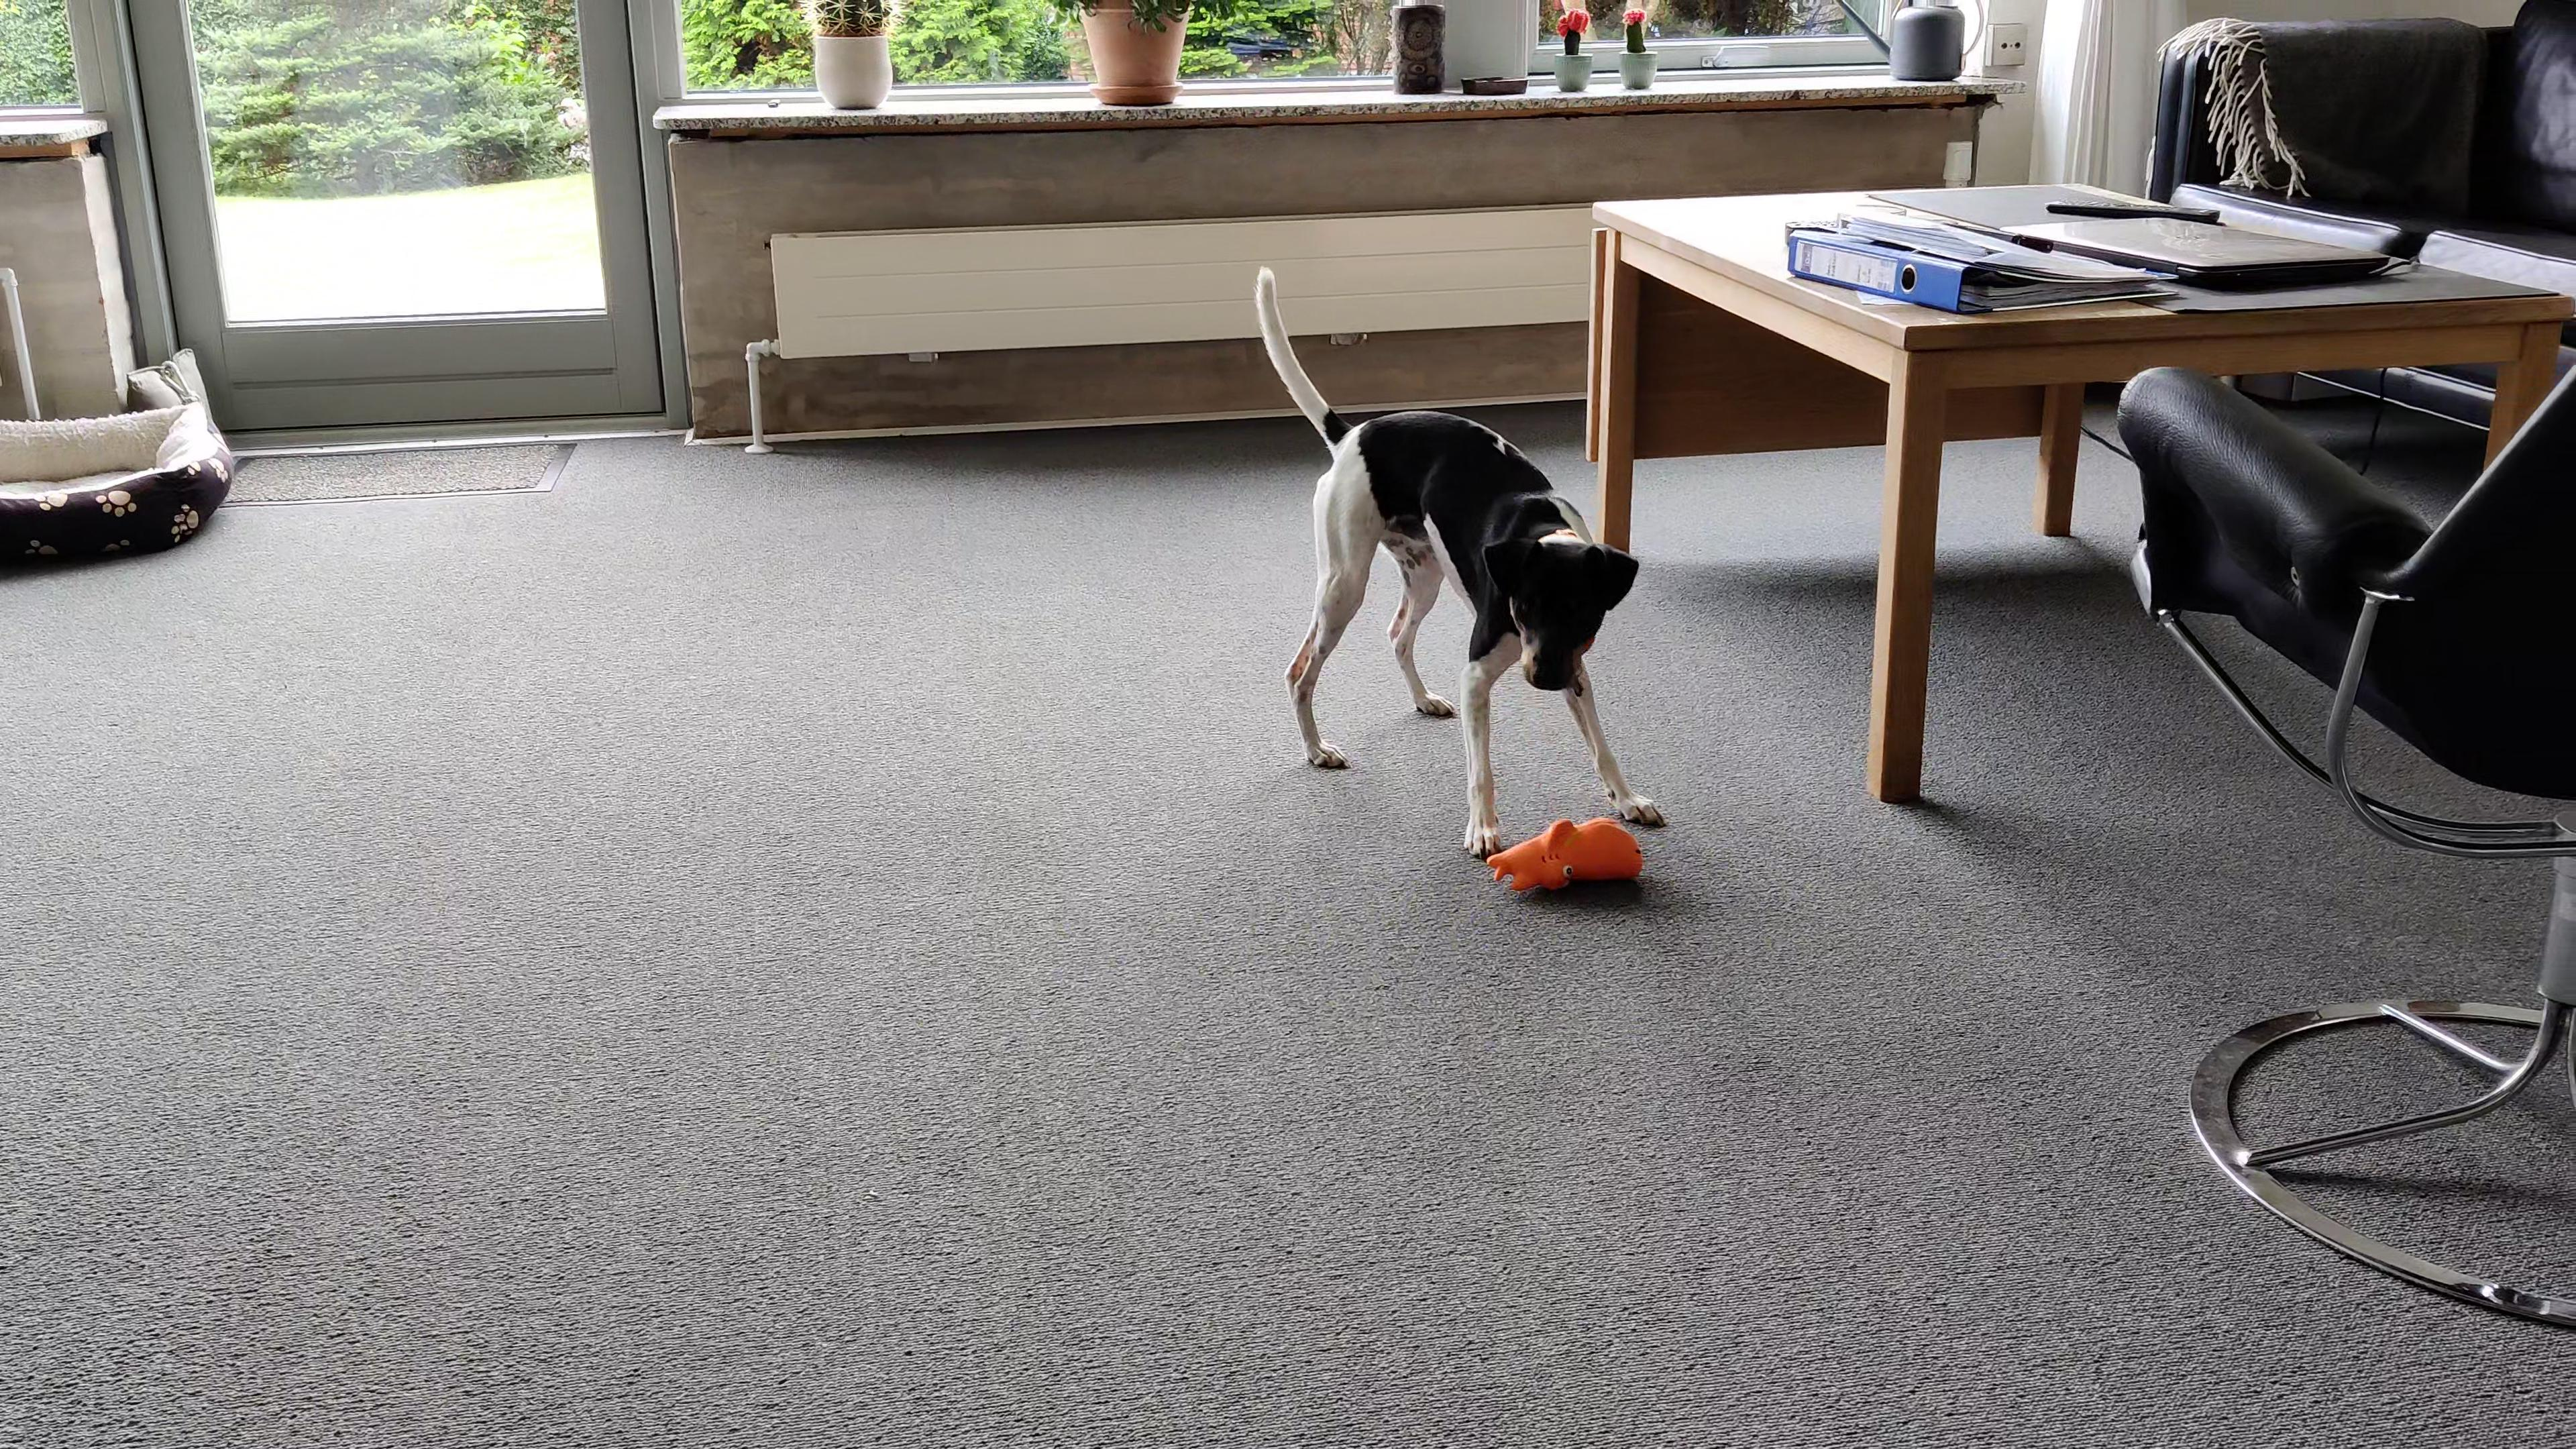Dog: (1244, 257, 1679, 862)
